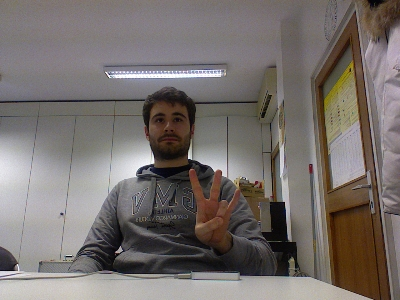观音: (186, 165, 241, 247)
